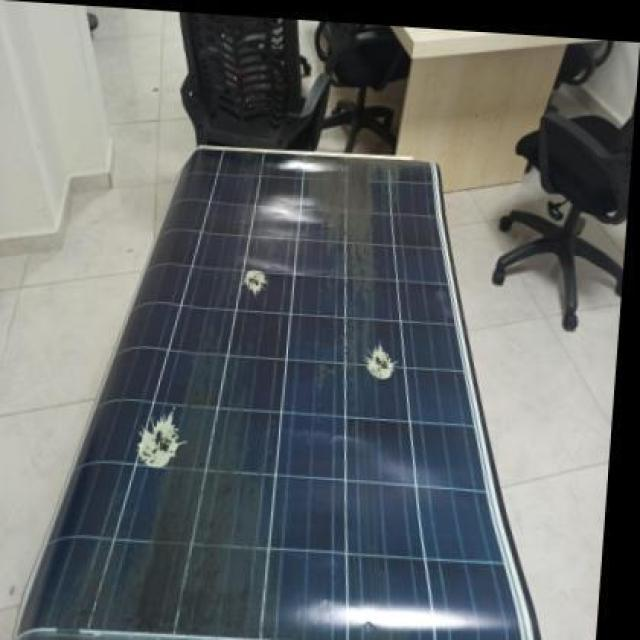soiled: (32, 152, 532, 640)
